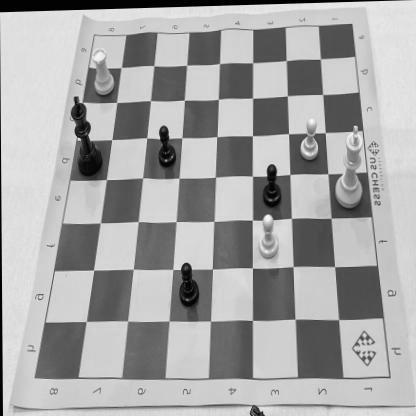black-king: (68, 88, 104, 176)
black-pawn: (176, 253, 200, 308), (260, 156, 284, 209), (156, 119, 178, 168)
white-king: (332, 122, 368, 212)
white-pawn: (255, 211, 282, 262), (298, 113, 322, 162)
white-rook: (89, 42, 116, 98)
